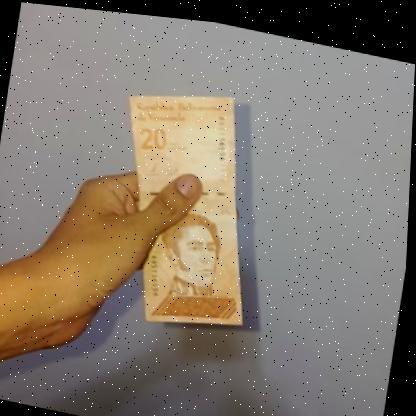twenty-front-vef: (99, 69, 277, 336)
